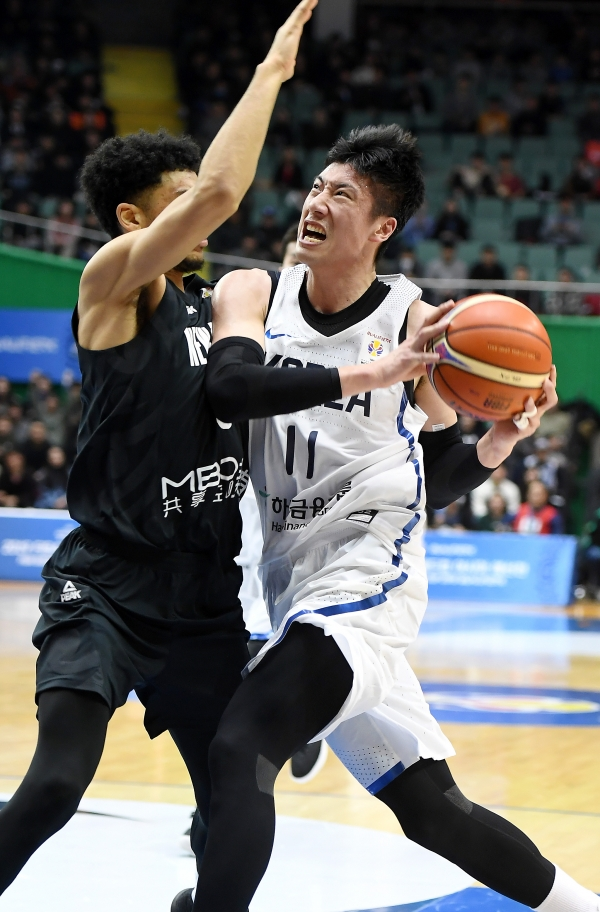breakthrough: (209, 101, 581, 912)
defense: (43, 17, 295, 912)
